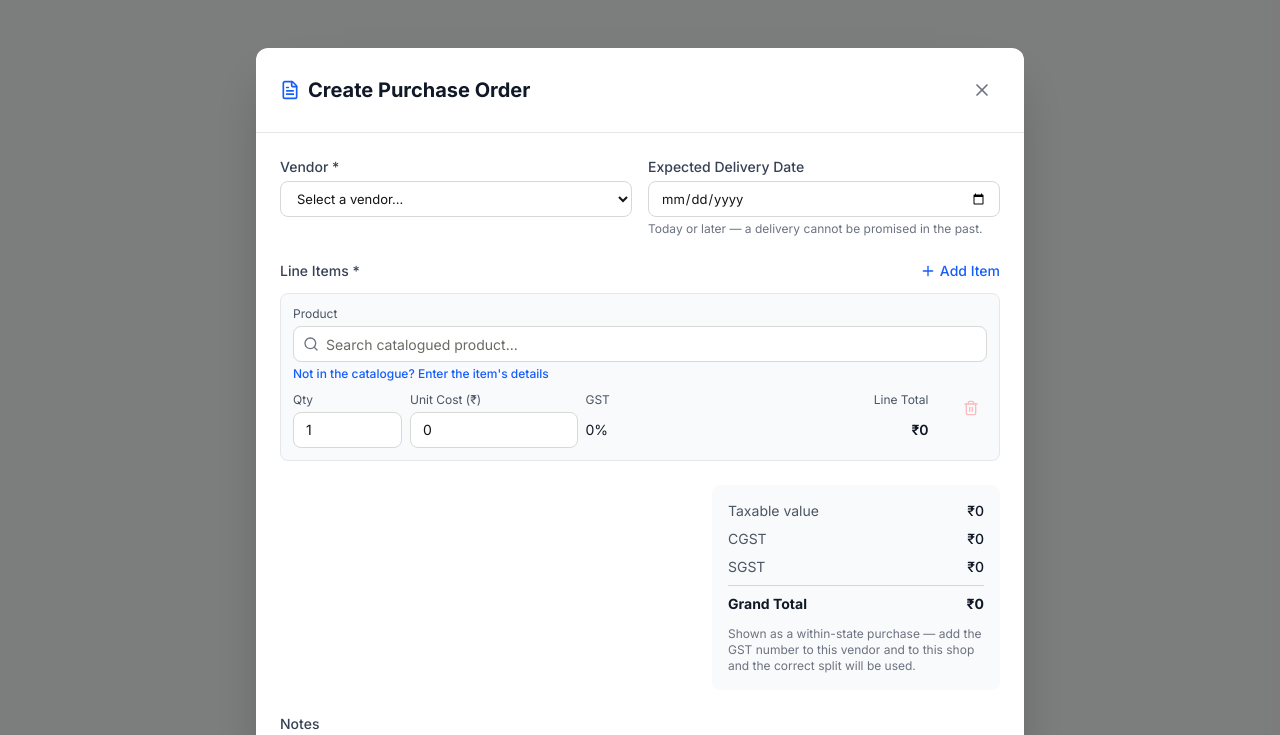
it: F22 - the price last paid to THIS vendor wins over the catalogue cost › a vendor never paid for this frame puts the catalogue cost back
Step 1. Select "Mumbai Lens House (V-MUM)" in the dropdown named "Vendor" → (456, 199), box [280,181,632,217]
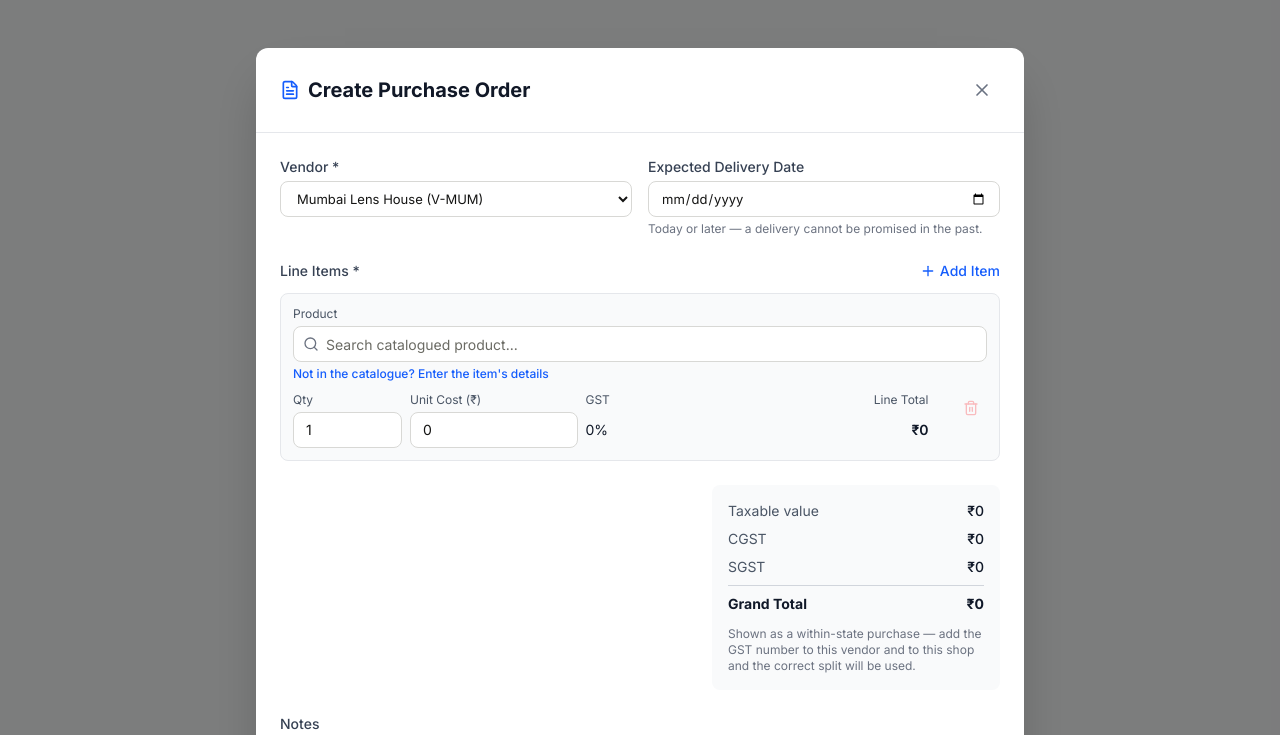
Step 2. Type "8895" into the field with placeholder "Search catalogued product..." → (640, 344), box [293,326,987,362]
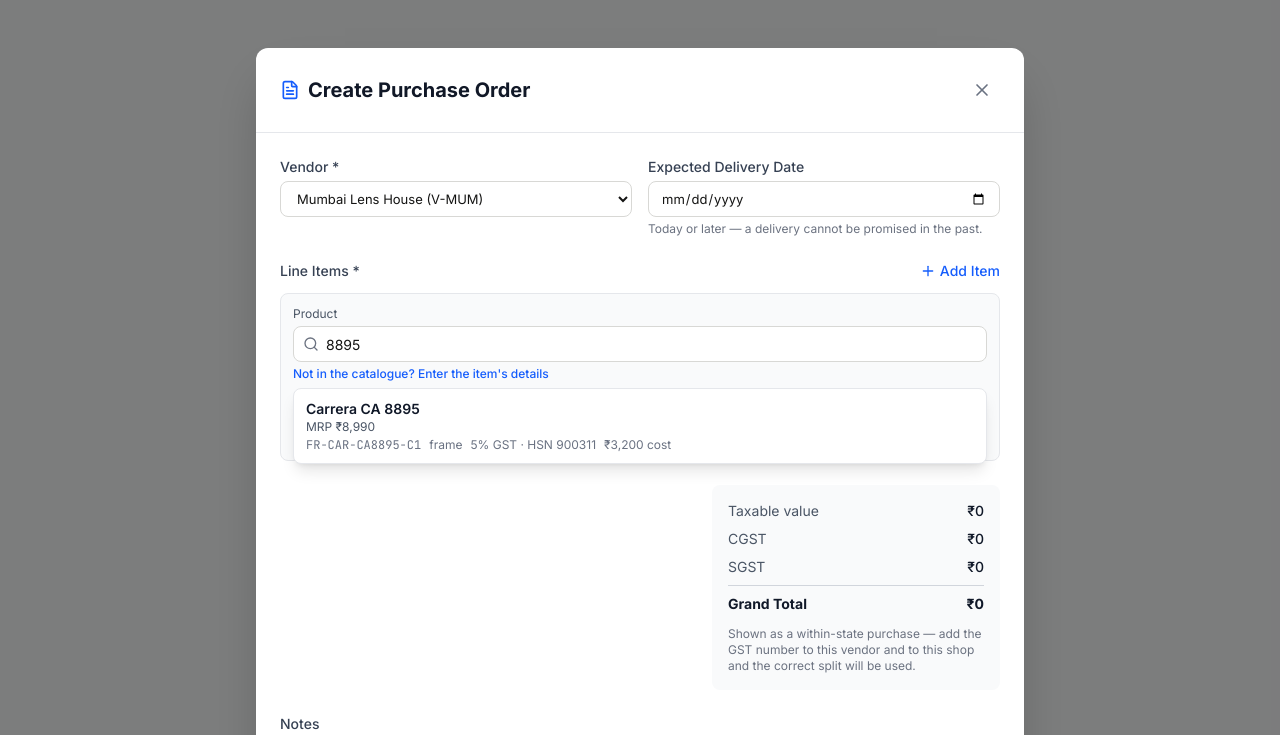
Step 3. Click the button "Carrera CA 8895" → (363, 408), box [294,389,986,463]
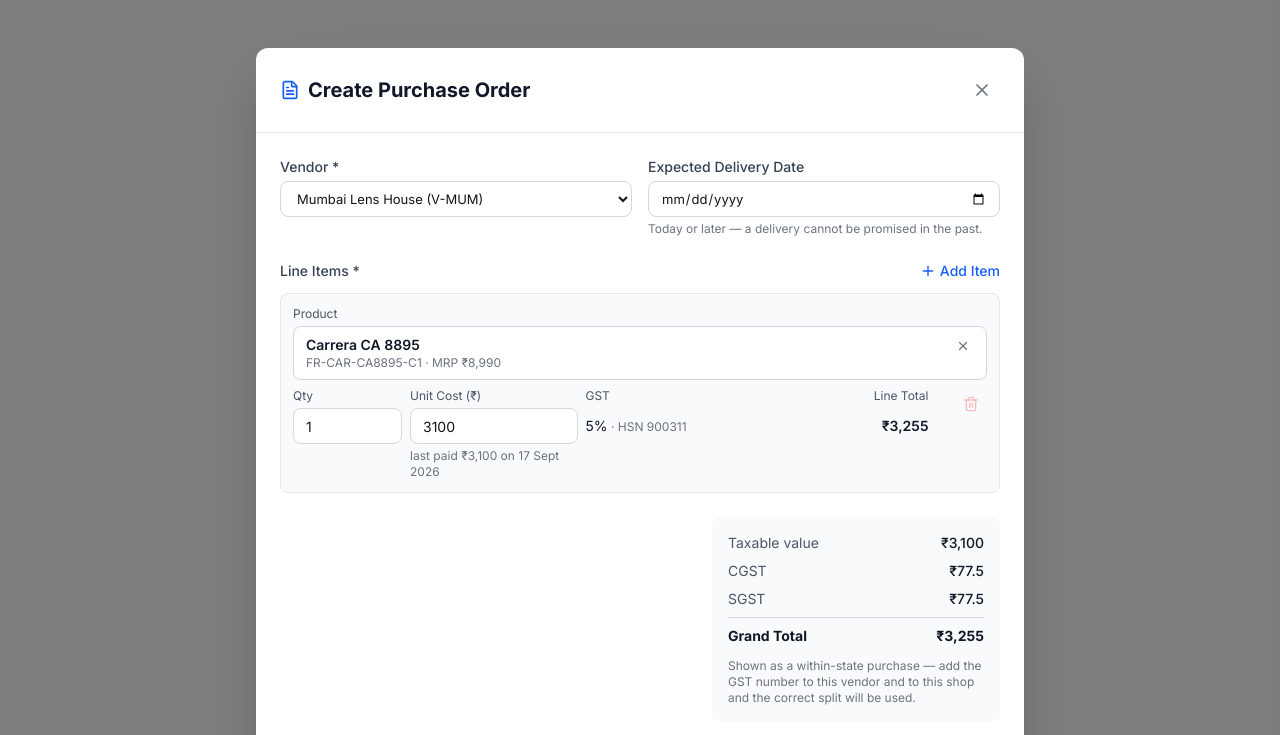
Now the number field named "Unit cost for line 1" holds "3100", box [410,408,578,444]
Step 4. Select "Ranchi Optics (V-RNC)" in the dropdown named "Vendor" → (456, 199), box [280,181,632,217]
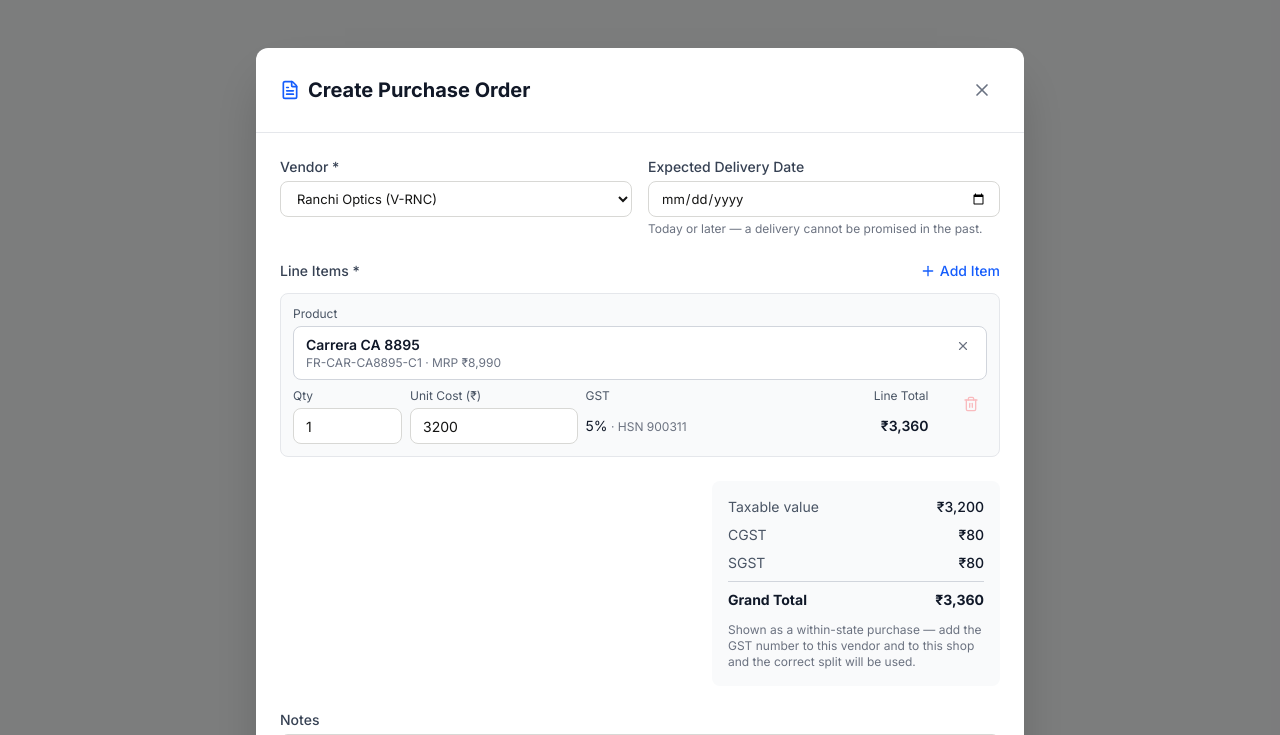
Now the number field named "Unit cost for line 1" holds "3200", box [410,408,578,444]
Now the text "last paid" is gone
